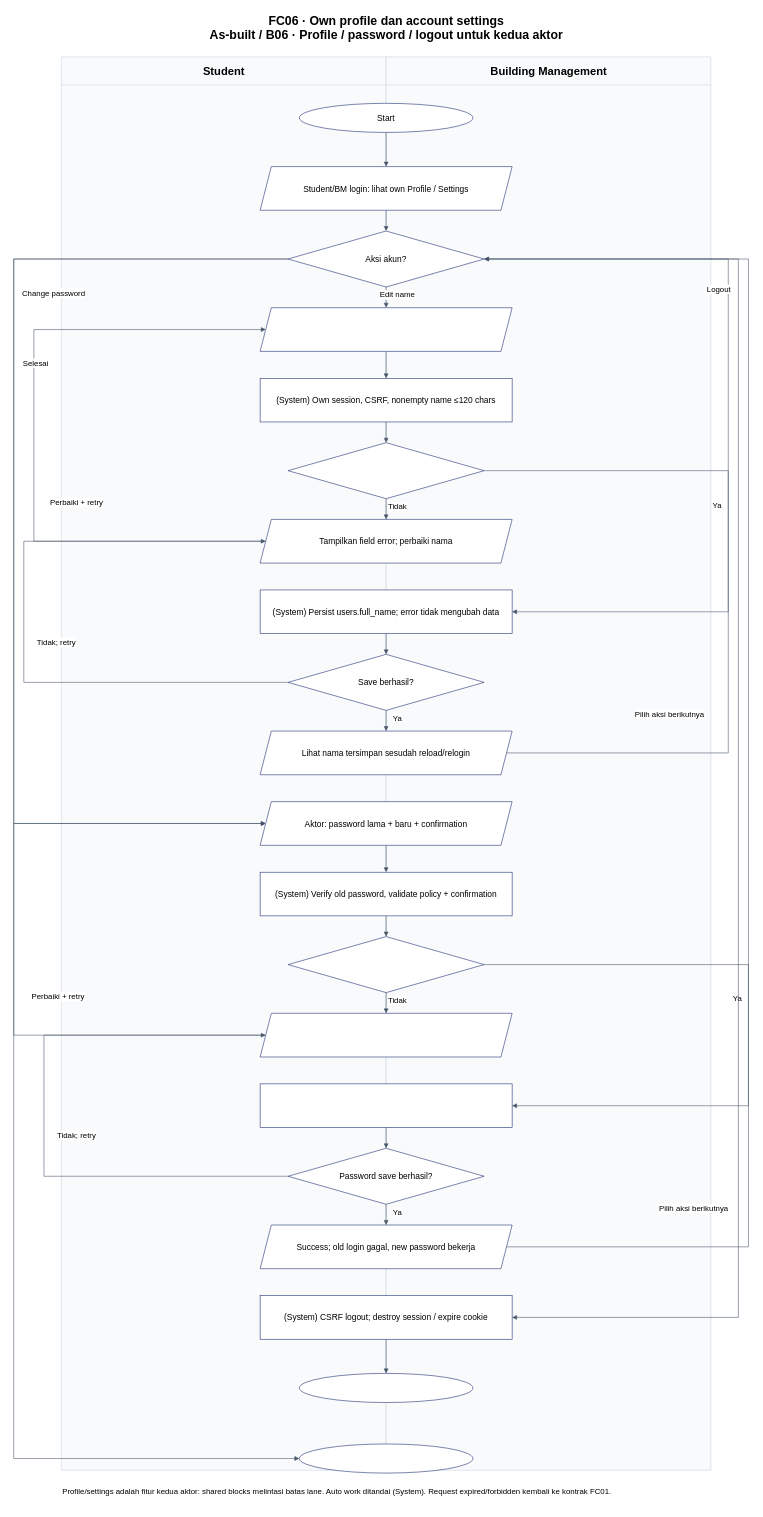
Some shapes in this 763 by 1517 pixel diagram are drawn without their labels. The shapes that lost their labels are listed below. From the top down, each one's centre as x and y in pixels, then its label:
the point at 386,329: Aktor: edit display name (email/NIM/role readonly)
the point at 386,470: Nama valid?
the point at 386,964: Password request valid?
the point at 386,1035: Tampilkan error; password hash tetap
the point at 386,1105: (System) Update hash, rotate session; invalidate other sessions
the point at 386,1388: End · Logged out
the point at 386,1458: End · Pengelolaan akun selesai
